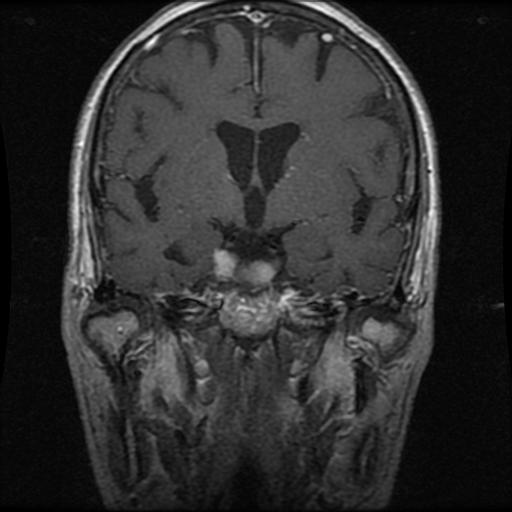Pituirity_tumour: (210, 247, 276, 285)
